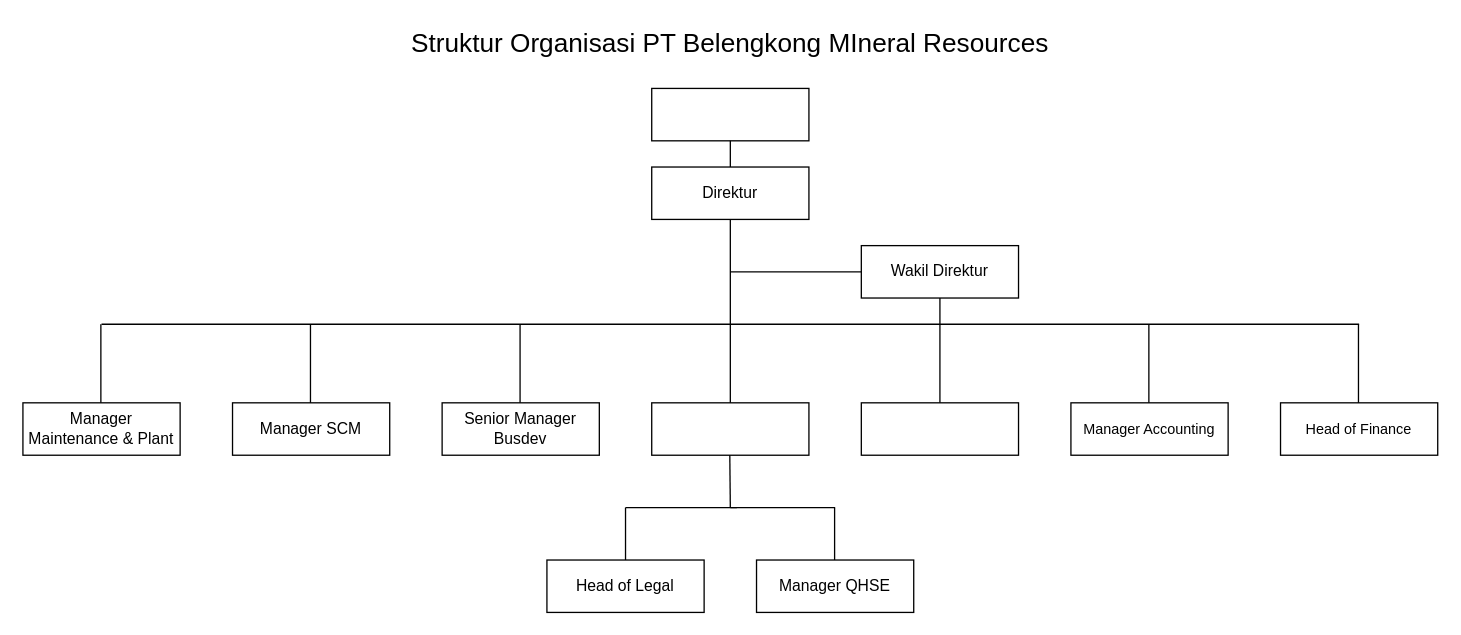
Some shapes in this 1461 by 635 pixel diagram are drawn without their labels. The centre of each missing label's shape, as x and y in pixels:
Direktur Utama: the point at 729,114
Head of HRGA - IT: the point at 729,428
Head Opr - Engineering: the point at 939,428
